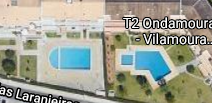pool: (124, 50, 170, 76), (49, 46, 92, 69)
